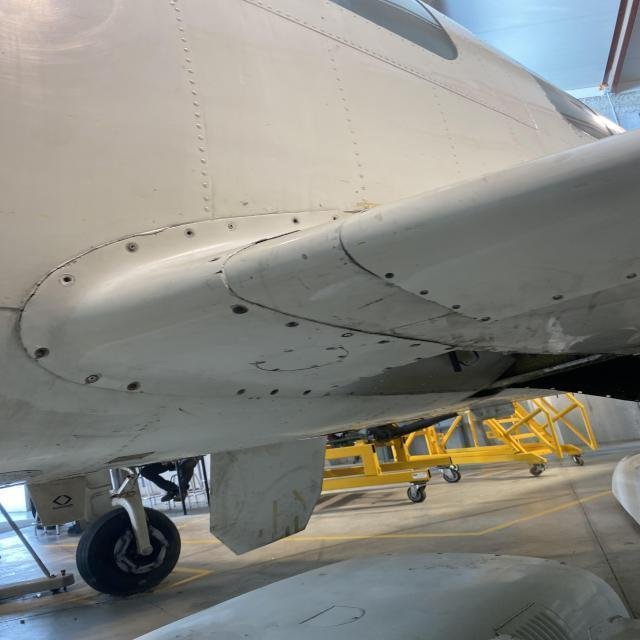Crack: (10, 268, 48, 326), (115, 223, 174, 240), (55, 246, 98, 268), (202, 264, 230, 278), (245, 236, 277, 246)
Missing_Fastener: (32, 346, 54, 360), (58, 274, 78, 286), (230, 304, 250, 315), (126, 380, 144, 392), (282, 320, 300, 330), (181, 228, 196, 240), (267, 386, 280, 398), (300, 388, 315, 398), (622, 271, 638, 280), (550, 294, 568, 302), (384, 272, 399, 281), (376, 338, 392, 346), (413, 356, 428, 364), (416, 289, 433, 296), (290, 215, 302, 224), (409, 342, 423, 349), (480, 315, 492, 323), (451, 303, 462, 311), (442, 346, 455, 352), (330, 216, 340, 220)
